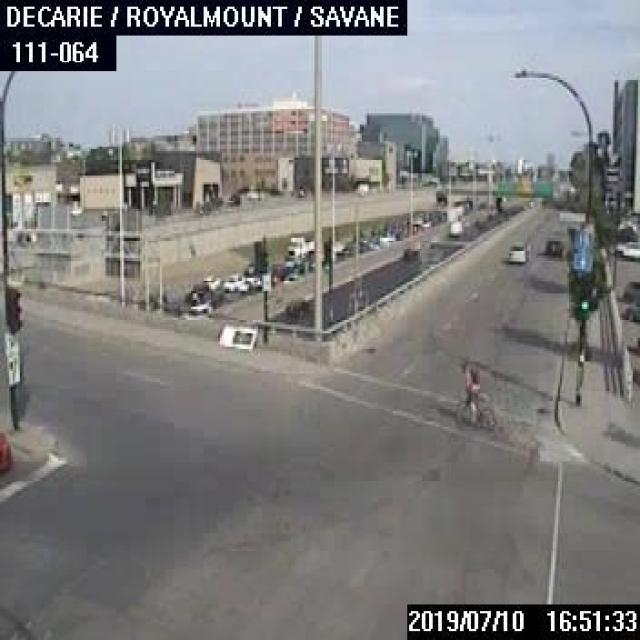cyclist: (449, 358, 496, 431)
vehicle: (284, 234, 313, 258), (505, 238, 531, 264), (0, 422, 11, 476), (612, 239, 638, 259), (221, 271, 245, 291), (542, 236, 562, 256), (402, 240, 422, 260), (622, 278, 638, 300), (624, 296, 638, 319), (445, 216, 462, 231), (201, 273, 219, 287)
